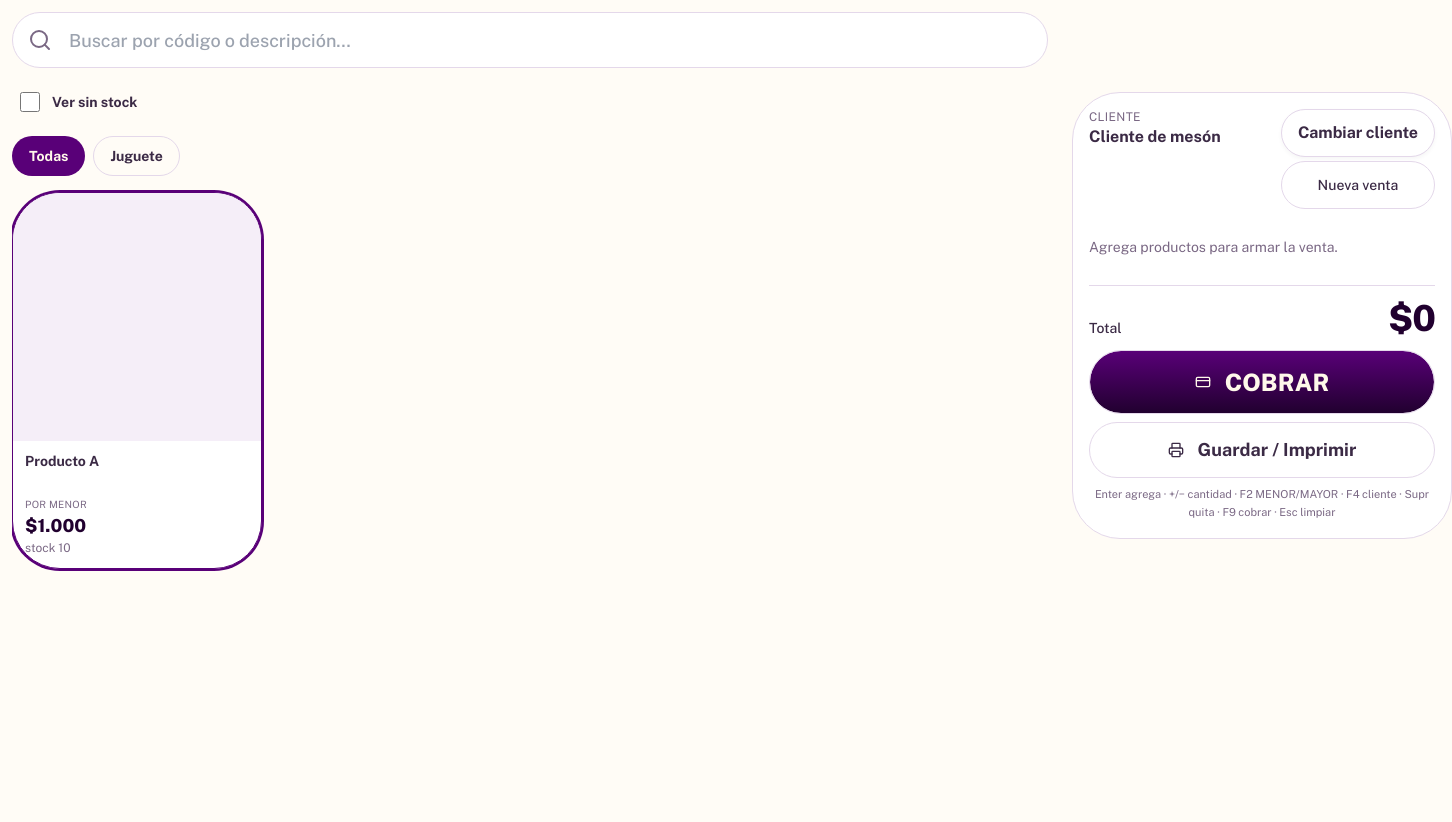
Test: POS pos3 — cliente de la venta › si no existe el Cliente de mesón, la venta no se bloquea y avisa
Click the button with test id "pos-producto-GL1" at (137, 380), box [12,192,262,569]
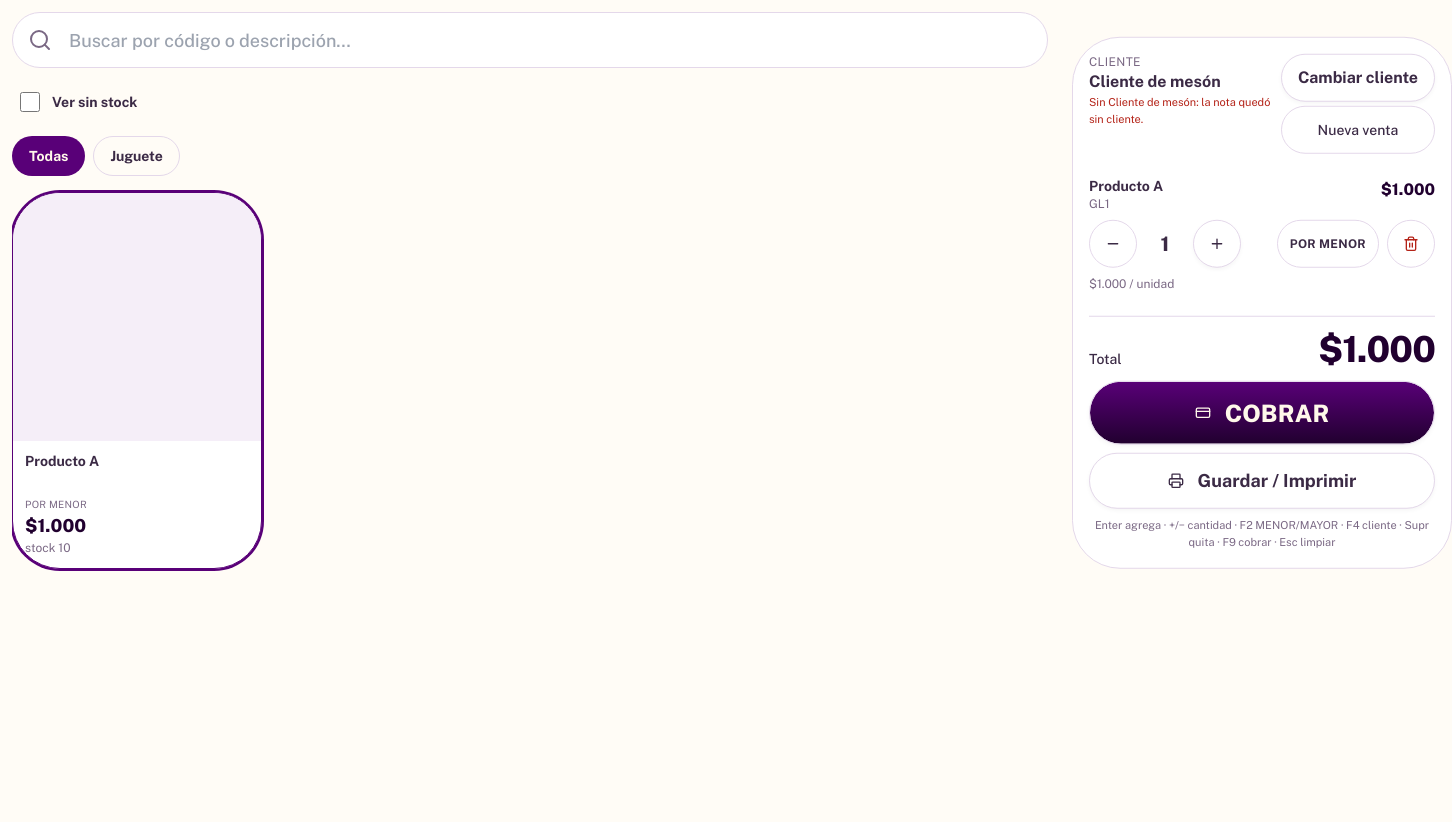
Expected: the text "Sin Cliente de mesón: la nota quedó sin cliente." is shown, [1089,94,1273,127]
Expected: the list item with test id "pos-linea-GL1" is shown, [1089,166,1435,303]
